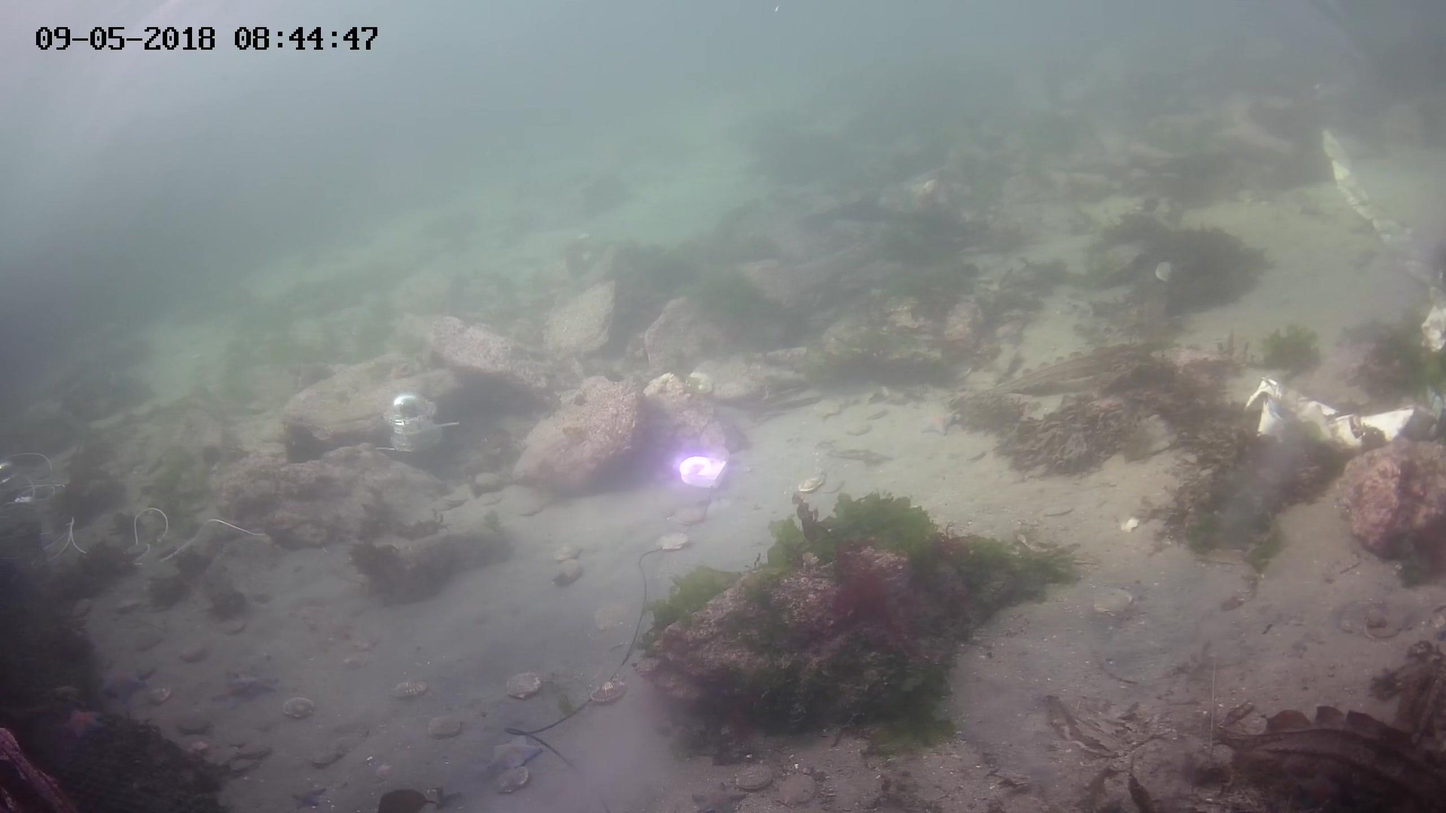holothurian: (218, 668, 274, 701), (690, 781, 746, 813), (484, 735, 533, 771), (915, 409, 951, 434)
scallop: (589, 680, 629, 707), (496, 770, 537, 793), (505, 671, 542, 694), (424, 713, 462, 735), (283, 694, 311, 720), (389, 679, 420, 694), (554, 541, 579, 557), (796, 474, 822, 487)
